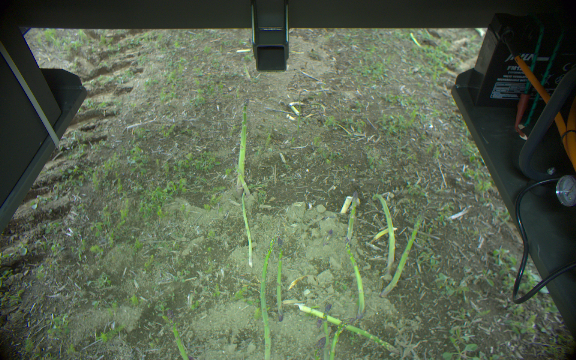aspa: (298, 303, 401, 357), (380, 216, 429, 297), (343, 235, 366, 325), (369, 191, 393, 274), (259, 240, 275, 360), (161, 308, 190, 360), (233, 95, 249, 178), (328, 313, 353, 360), (315, 303, 334, 360), (231, 161, 252, 199), (276, 238, 284, 323), (345, 190, 360, 234)
